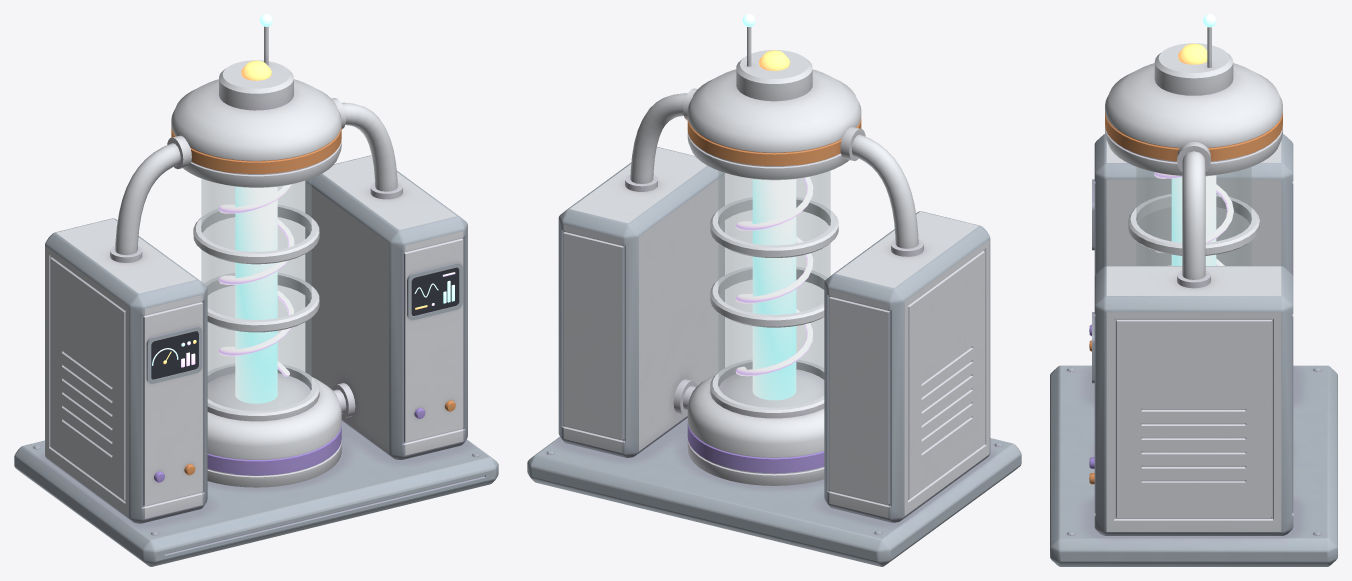
The model's file is power-generator.fbx.
The picture shows the model from 3 angles, left to right: view 1: azimuth 30°, elevation 25°; view 2: azimuth 150°, elevation 25°; view 3: azimuth 270°, elevation 25°; orthographic projection. The views are drawn at different scales.
Parts seen in each view (by area): view 1: power-generator_body, power-generator_core_glass, power-generator_energy_glow; view 2: power-generator_body, power-generator_core_glass, power-generator_energy_glow; view 3: power-generator_body, power-generator_core_glass, power-generator_energy_glow.
Part boxes in pixels (left/top/right/bottom): power-generator_body: left=14, top=26, right=498, bottom=566; power-generator_core_glass: left=201, top=179, right=311, bottom=409; power-generator_energy_glow: left=152, top=14, right=455, bottom=403; power-generator_body: left=527, top=27, right=1021, bottom=566; power-generator_core_glass: left=718, top=171, right=830, bottom=406; power-generator_energy_glow: left=735, top=14, right=813, bottom=400; power-generator_body: left=1050, top=27, right=1337, bottom=566; power-generator_core_glass: left=1136, top=167, right=1251, bottom=265; power-generator_energy_glow: left=1154, top=14, right=1233, bottom=265.
Bounding box in the file's own units: 1.64 × 2 × 1.1.
Materials: 5 (1 with a texture image).
